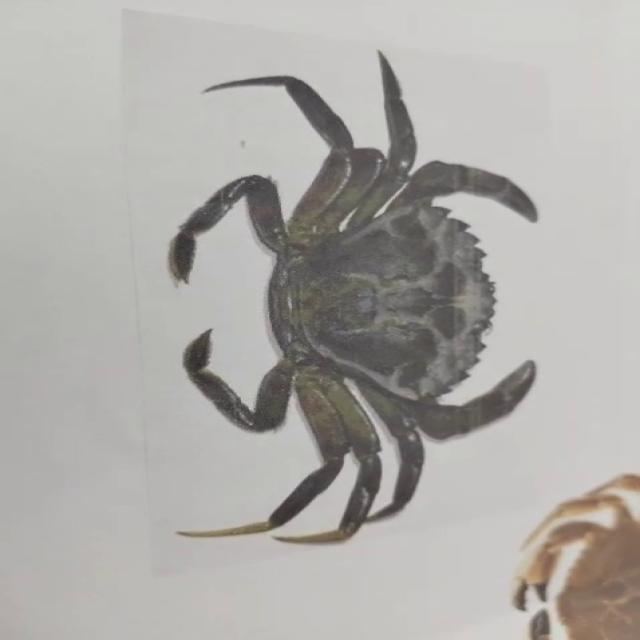egc: (169, 52, 537, 542)
